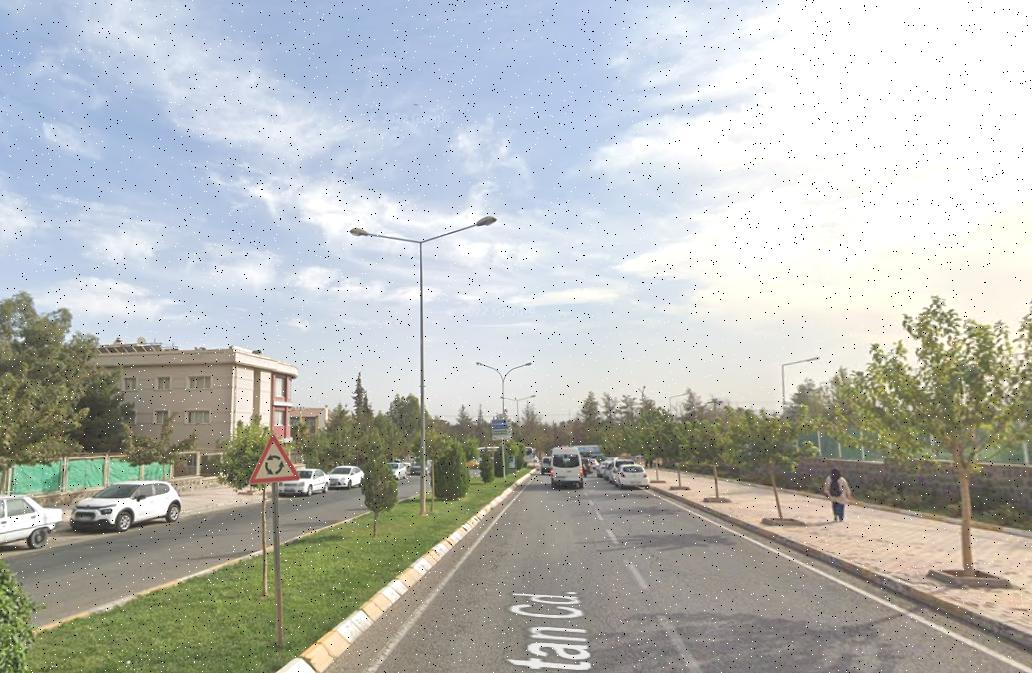crossroads: (254, 438, 298, 487)
